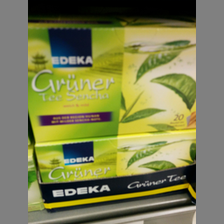tea: (28, 18, 195, 143), (33, 134, 195, 213)
